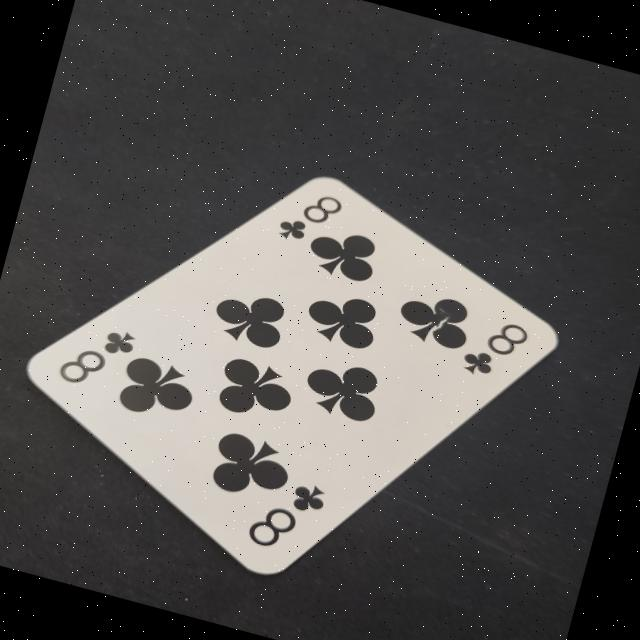8c: (240, 462, 340, 566), (48, 312, 148, 405), (446, 306, 544, 398), (265, 177, 349, 260)
